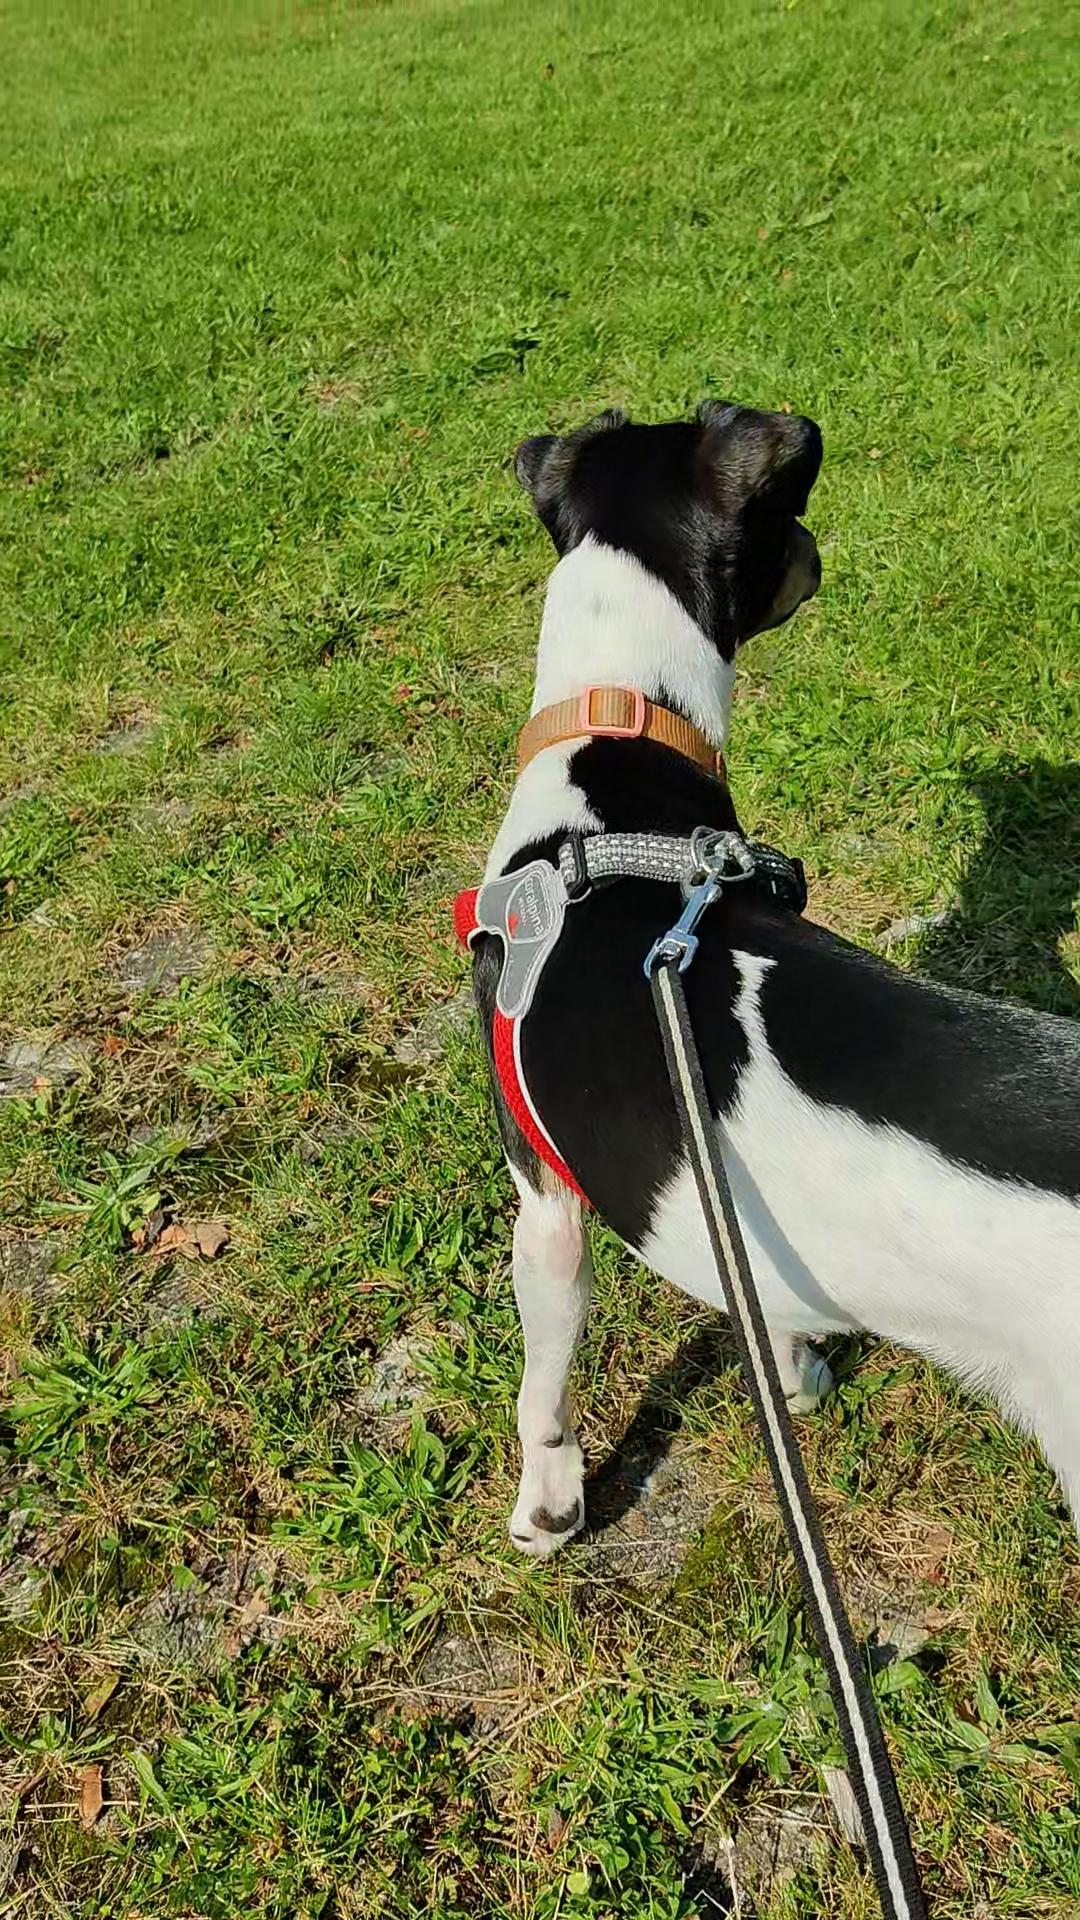Dog: (444, 378, 1079, 1644)
